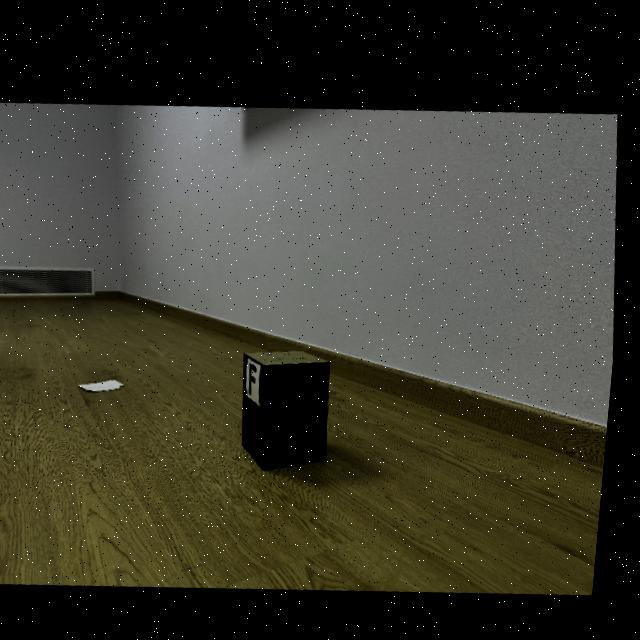F: (256, 357, 263, 389)
